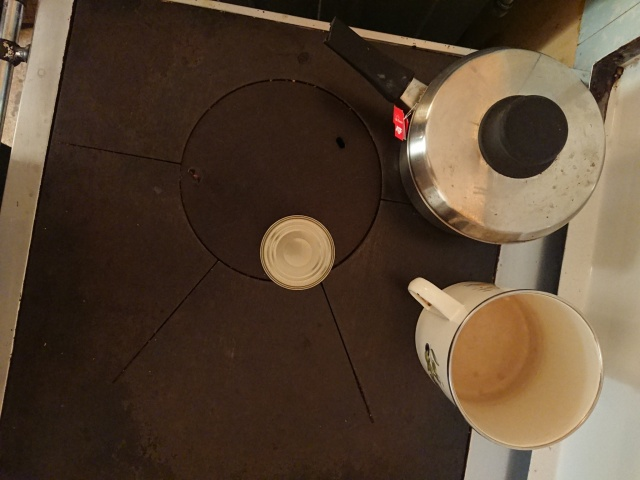Podravka Luncheon Meat 150g: (257, 211, 338, 294)
